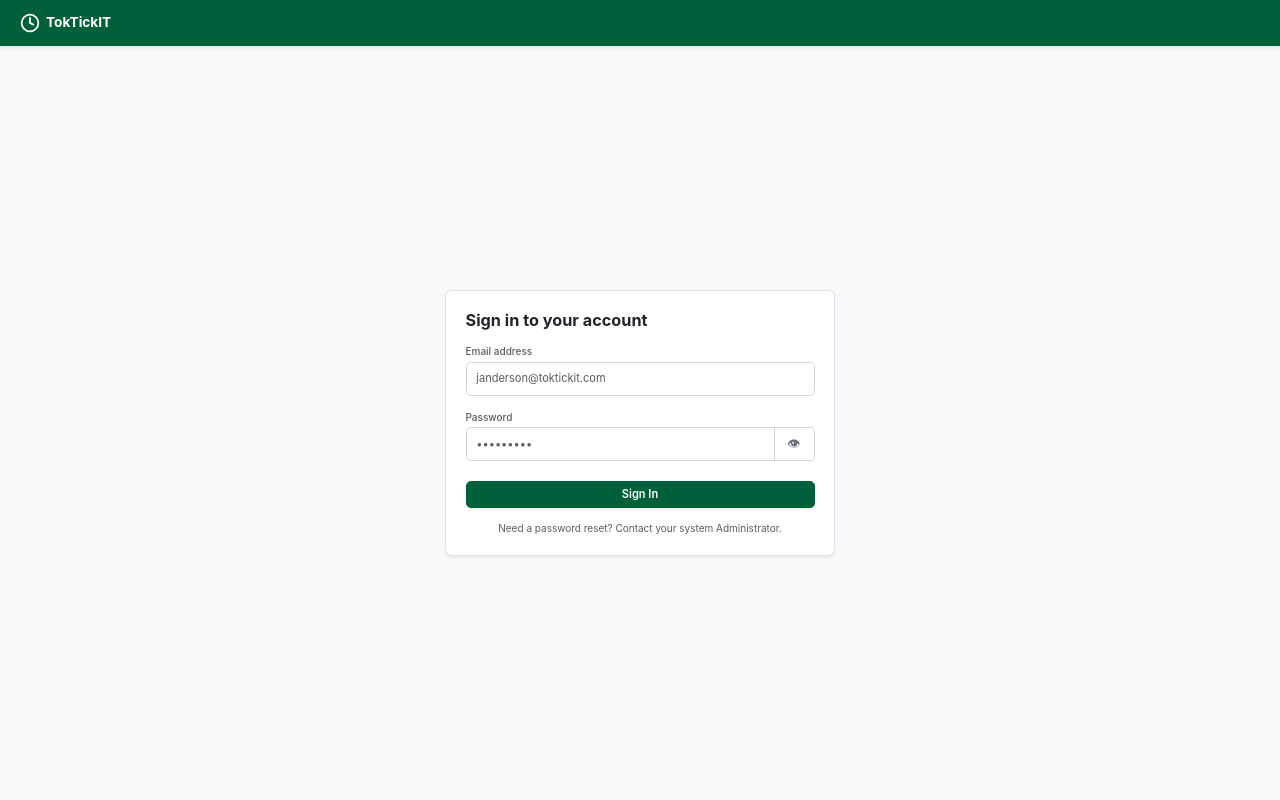
Login UI Component Tests (TC-UI-01) › displays error alert when login fails with invalid credentials
Type "invalid@toktickit.com" into the field with test id "login-email-input". click: (640, 379)
box: [466,362,814,396]
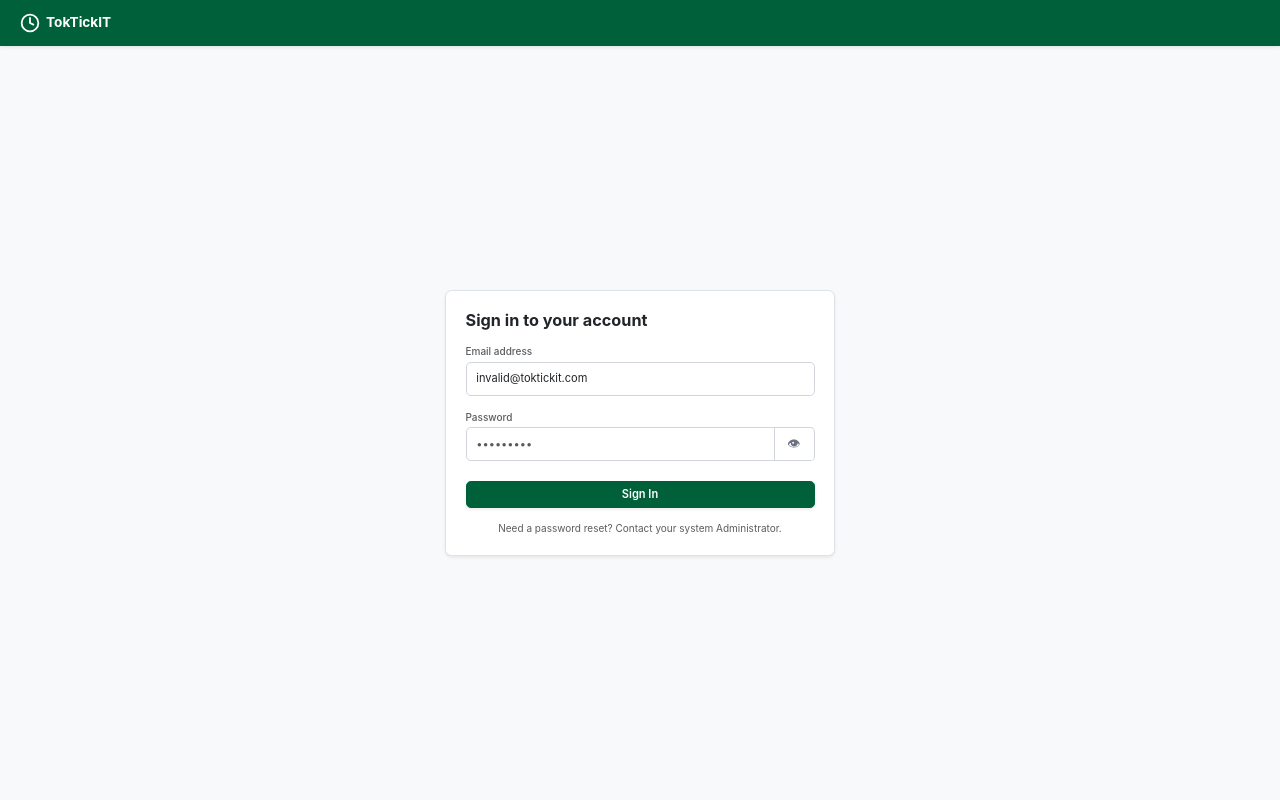
Type "wrongpassword" into the password field with test id "login-password-input". click: (620, 444)
box: [466,427,775,461]
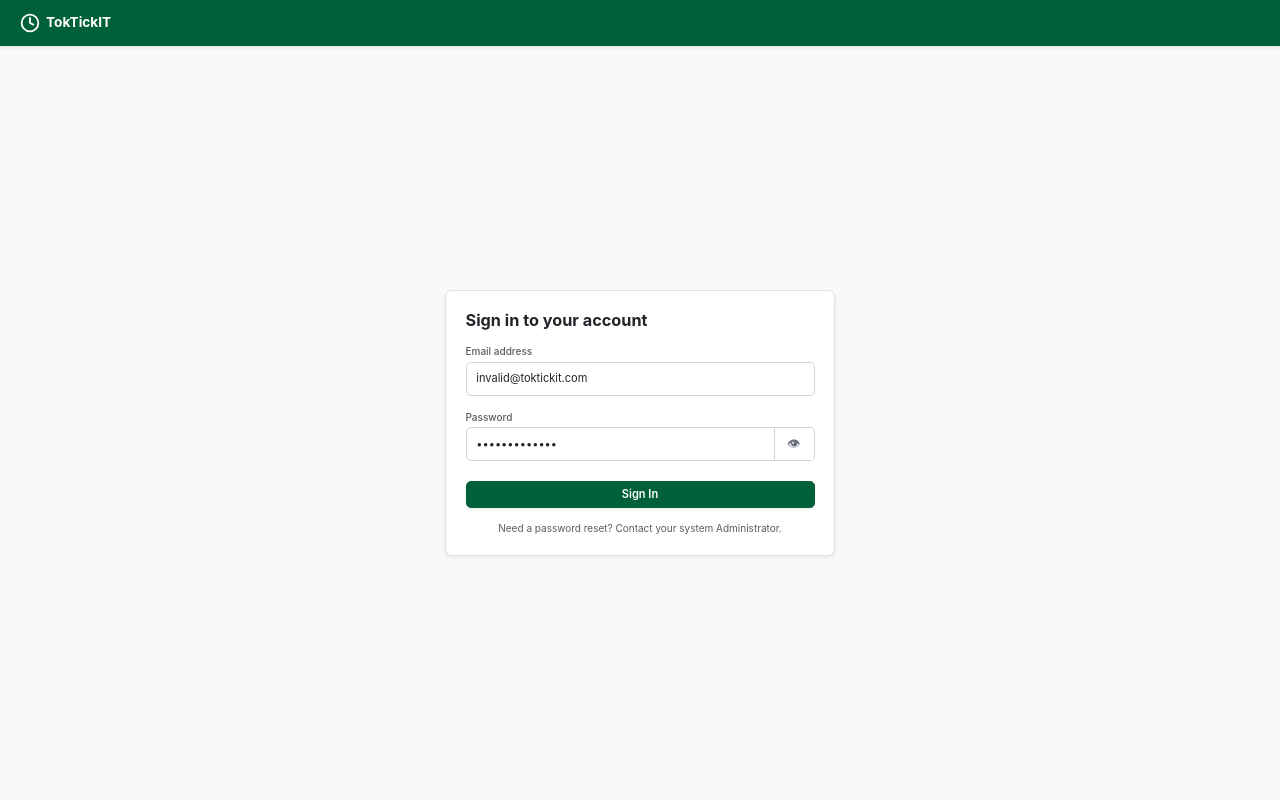
Click the button with test id "login-submit-btn". click: (640, 494)
box: [466,481,814,508]
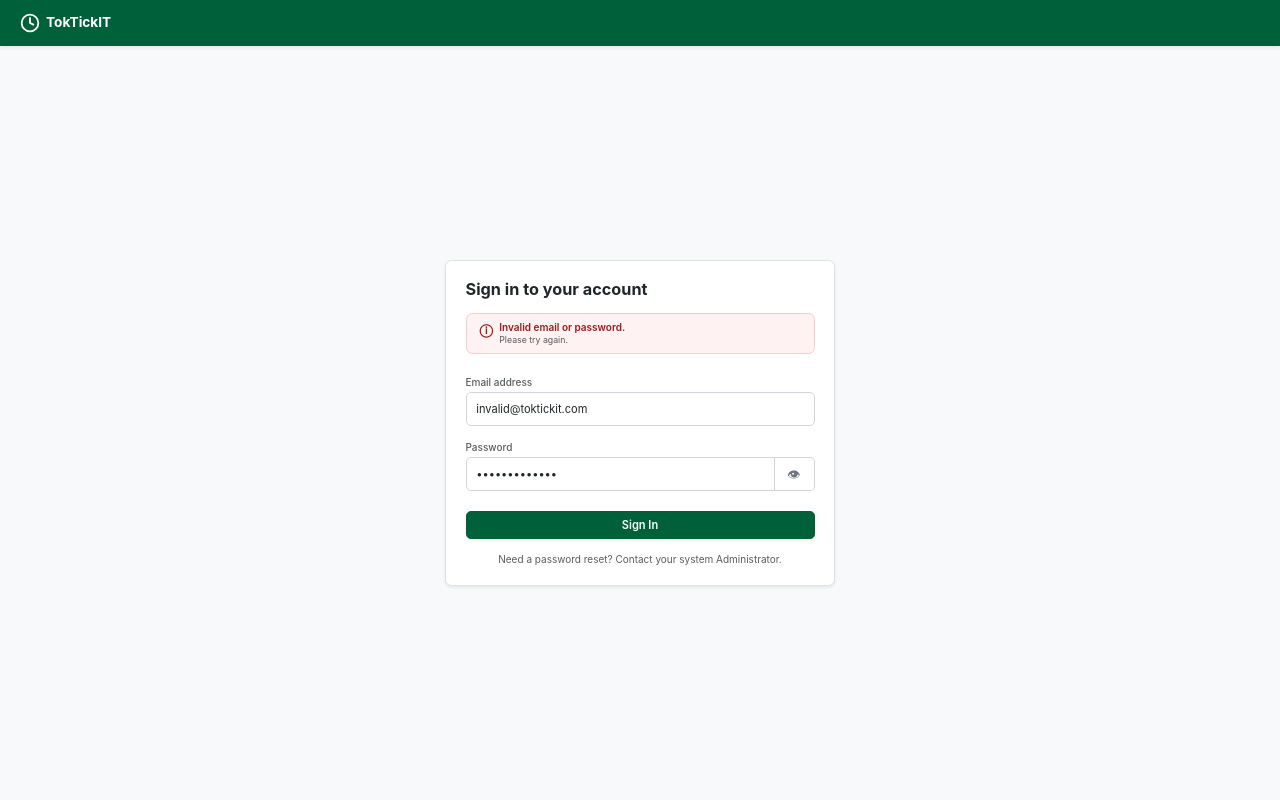
Now the message "ⓘ Invalid email or password. Please try again." is shown, box [466,313,814,354]
Now the message with test id "login-error-alert" shows "Invalid email or password", box [499,321,625,333]
